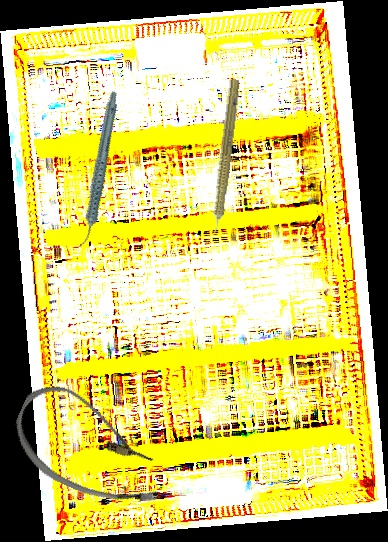Cannula: (0, 374, 183, 522)
Handpiece: (46, 89, 149, 250), (203, 77, 243, 246)
